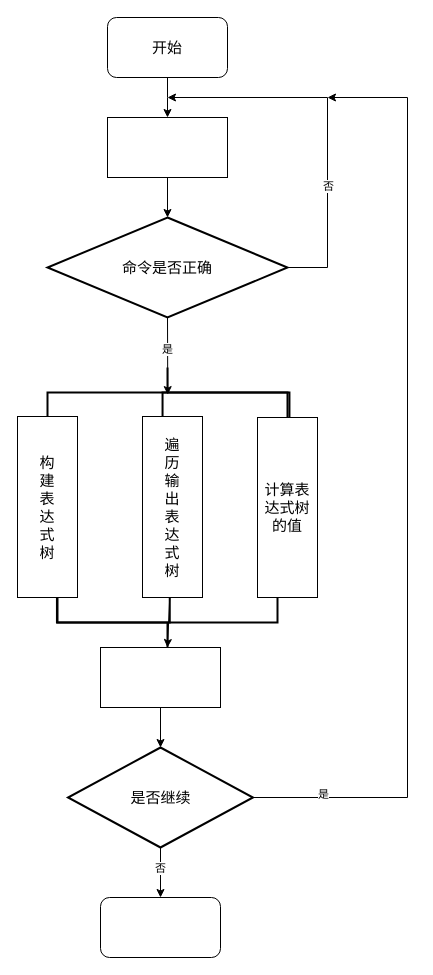
The diagram is 433 pixels wide and 975 high, and some of its shapes have lost their labels. The shapes that lost their labels are listed below. From the top down, each one's centre as x and y in pixels, then its label:
At point 167,147: "输入操作命令".
At point 160,677: "执行相关操作".
At point 160,927: "结束".
